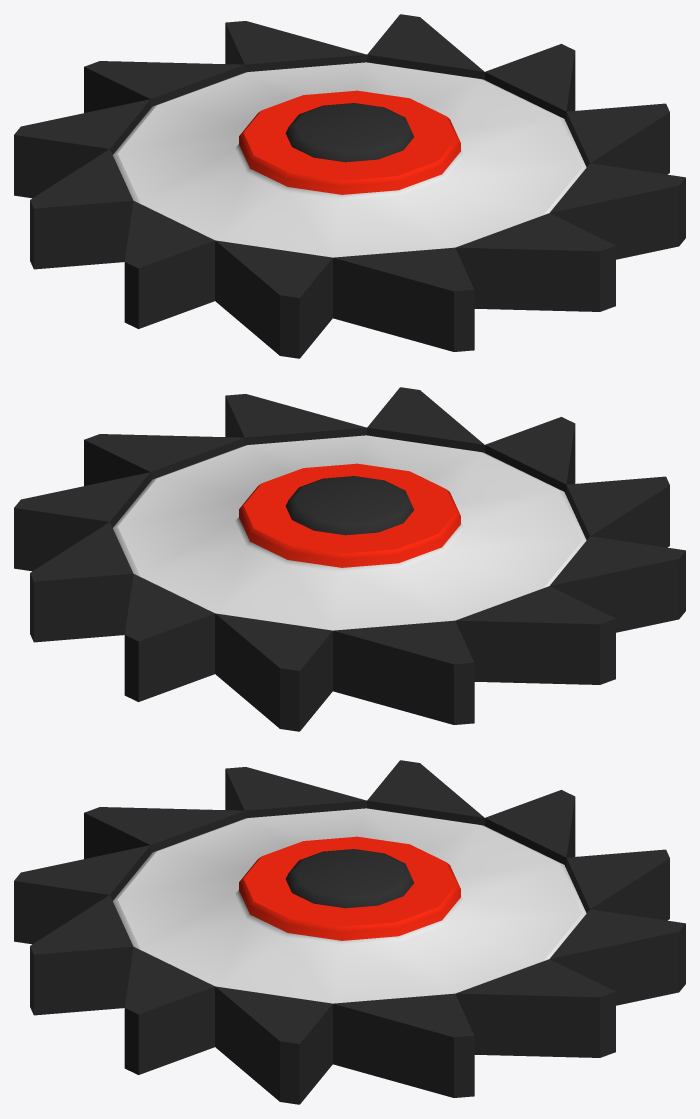
Rendered from Gear.fbx.
3 views of the same model, one above another, from view 1: azimuth 30°, elevation 25°; view 2: azimuth 150°, elevation 25°; view 3: azimuth 270°, elevation 25° (orthographic).
Parts seen in each view (by area): view 1: gear-base; view 2: gear-base; view 3: gear-base.
Boxes of the visible parts, bbox=[...] form: gear-base: bbox=[14, 14, 685, 358]; gear-base: bbox=[14, 387, 685, 731]; gear-base: bbox=[14, 760, 685, 1104].
Bounding box in the file's own units: 279 × 55.01 × 279.
